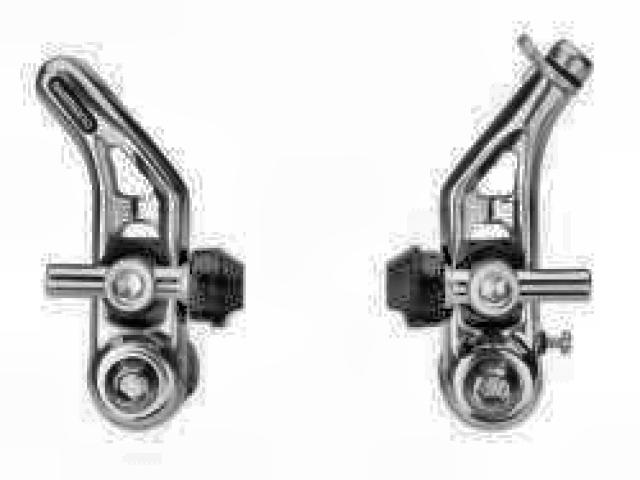rim_brake: (36, 28, 592, 432)
